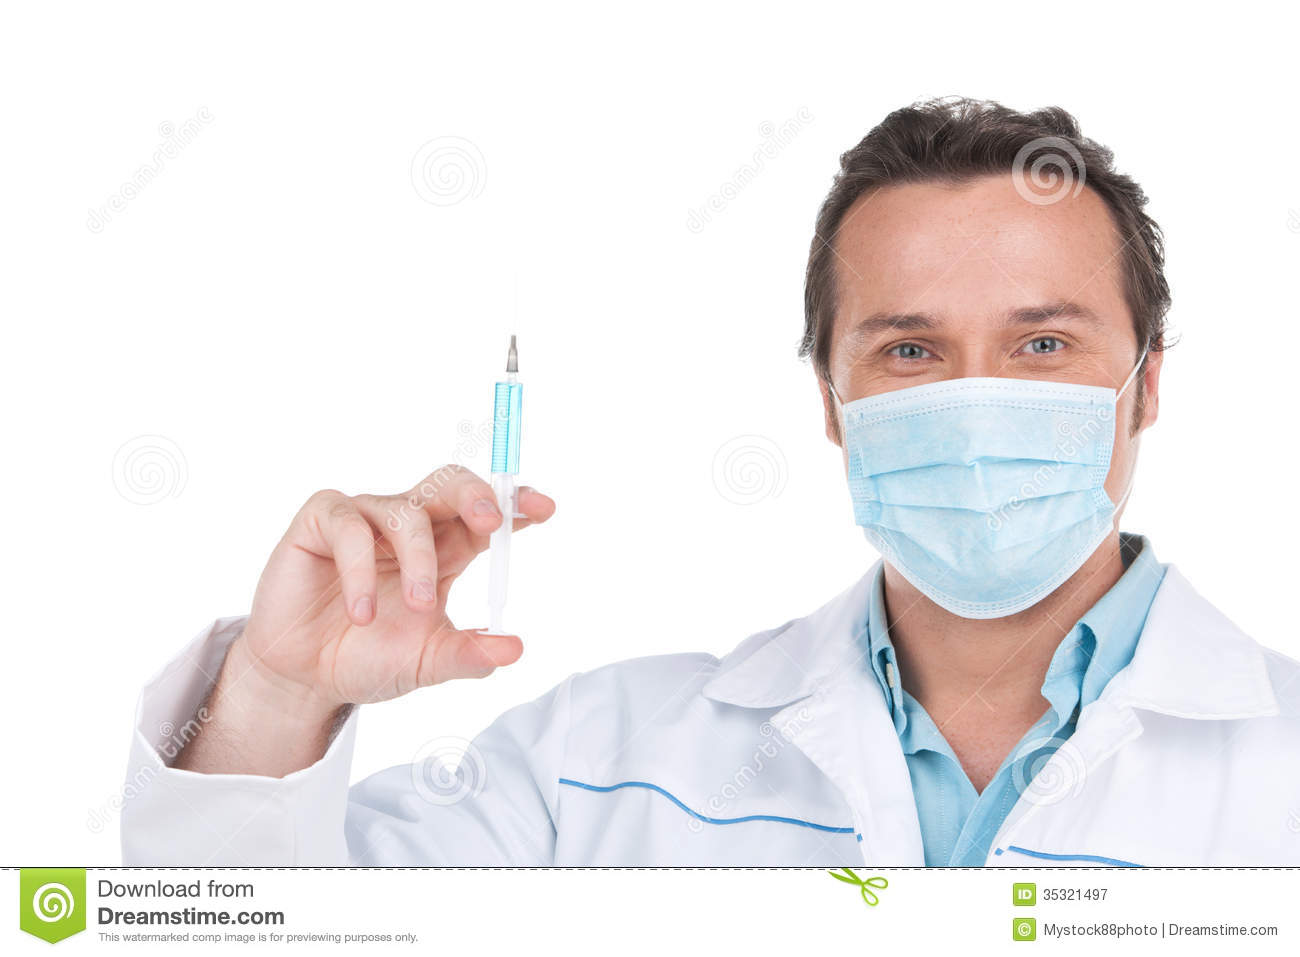mask: (840, 380, 1121, 626)
